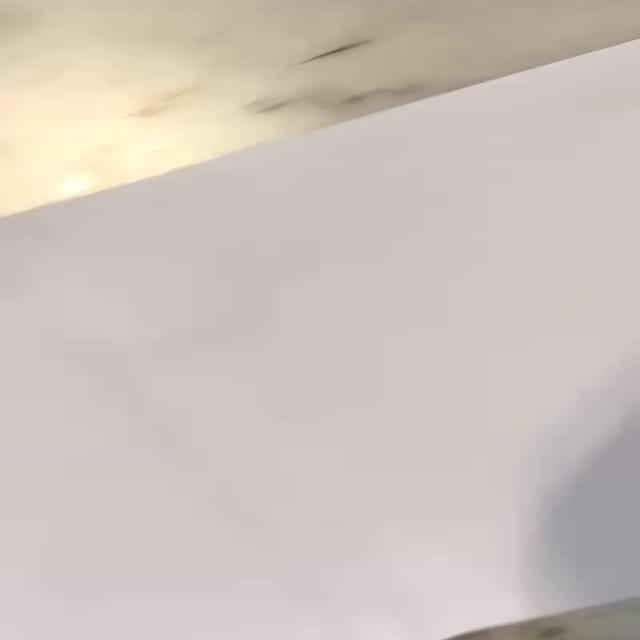road: (0, 38, 640, 640)
